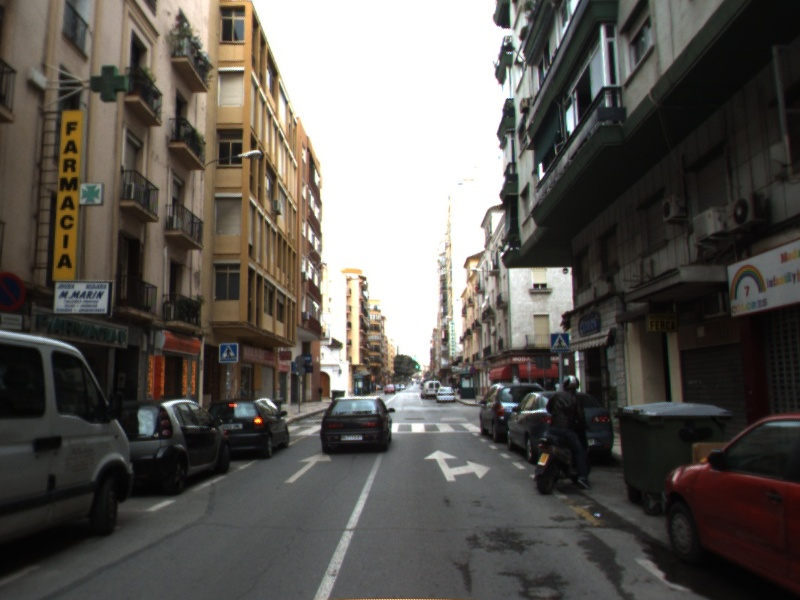STRAIGHT: (283, 451, 333, 484)
STRAIGHT_RIGHT: (422, 448, 492, 483)
